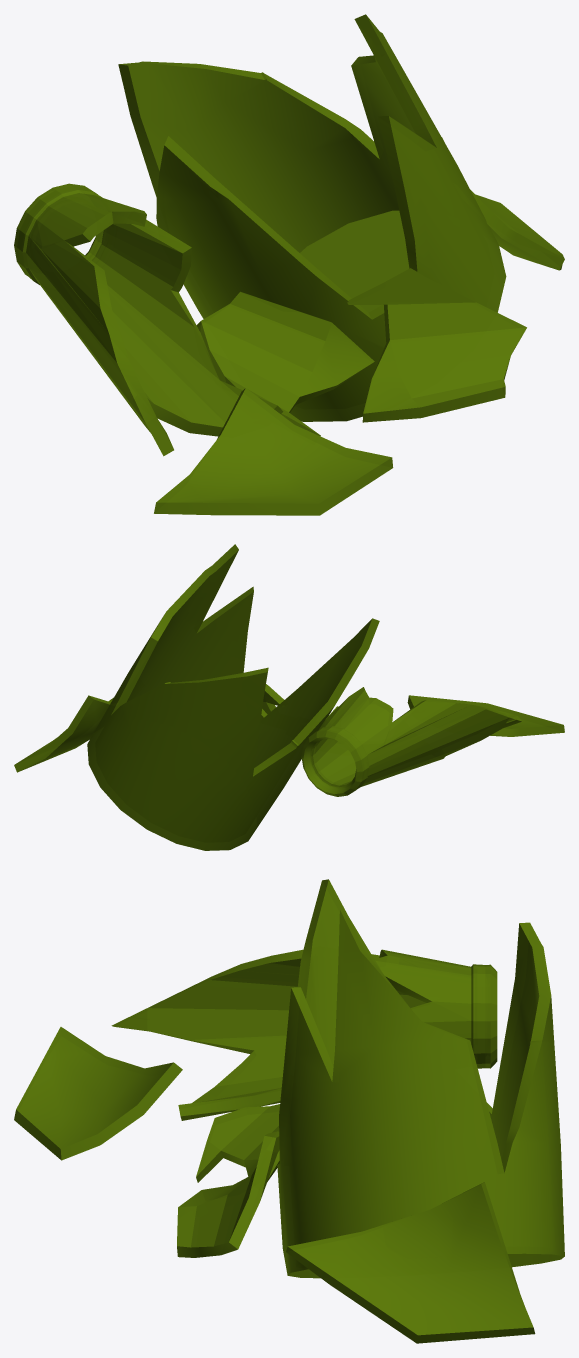
File: armadilha.fbx
3 renders of one model, top to bottom at view 1: azimuth 30°, elevation 25°; view 2: azimuth 150°, elevation 25°; view 3: azimuth 270°, elevation 25°, orthographic. The views are drawn at different scales.
Visible parts, largest first — view 1: Cylinder002, Cylinder003, Cylinder001, Cylinder004; view 2: Cylinder002, Cylinder001, Cylinder004, Cylinder003; view 3: Cylinder002, Cylinder004, Cylinder001, Cylinder003.
Boxes of the visible parts, bbox=[...] form: Cylinder002: bbox=[118, 14, 506, 421]; Cylinder003: bbox=[154, 268, 526, 515]; Cylinder001: bbox=[14, 183, 283, 456]; Cylinder004: bbox=[196, 137, 564, 436]; Cylinder002: bbox=[87, 544, 379, 850]; Cylinder001: bbox=[301, 687, 521, 796]; Cylinder004: bbox=[14, 695, 113, 772]; Cylinder003: bbox=[262, 684, 564, 736]; Cylinder002: bbox=[277, 879, 564, 1278]; Cylinder004: bbox=[196, 1104, 535, 1343]; Cylinder001: bbox=[111, 949, 497, 1120]; Cylinder003: bbox=[14, 1027, 279, 1257].
Size of the model in its own units: 139 by 91.59 by 116.
